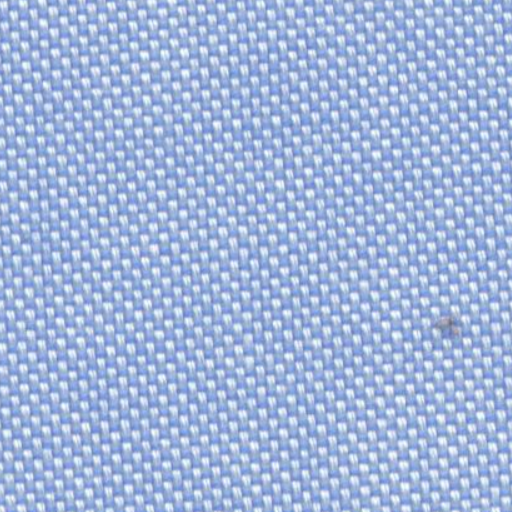WuZi: (428, 295, 472, 342)
